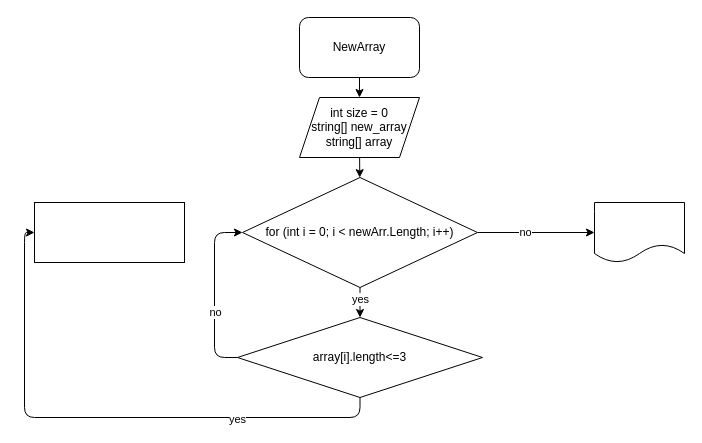
The diagram is 702 pixels wide and 443 high, and some of its shapes have lost their labels. The shapes that lost their labels are listed below. From the top down, each one's box as (x1, y1, x2, y2) in pixels, then its label:
(34, 202, 184, 262): new_array[size] = array [i] size++
(594, 202, 684, 262): new_array
